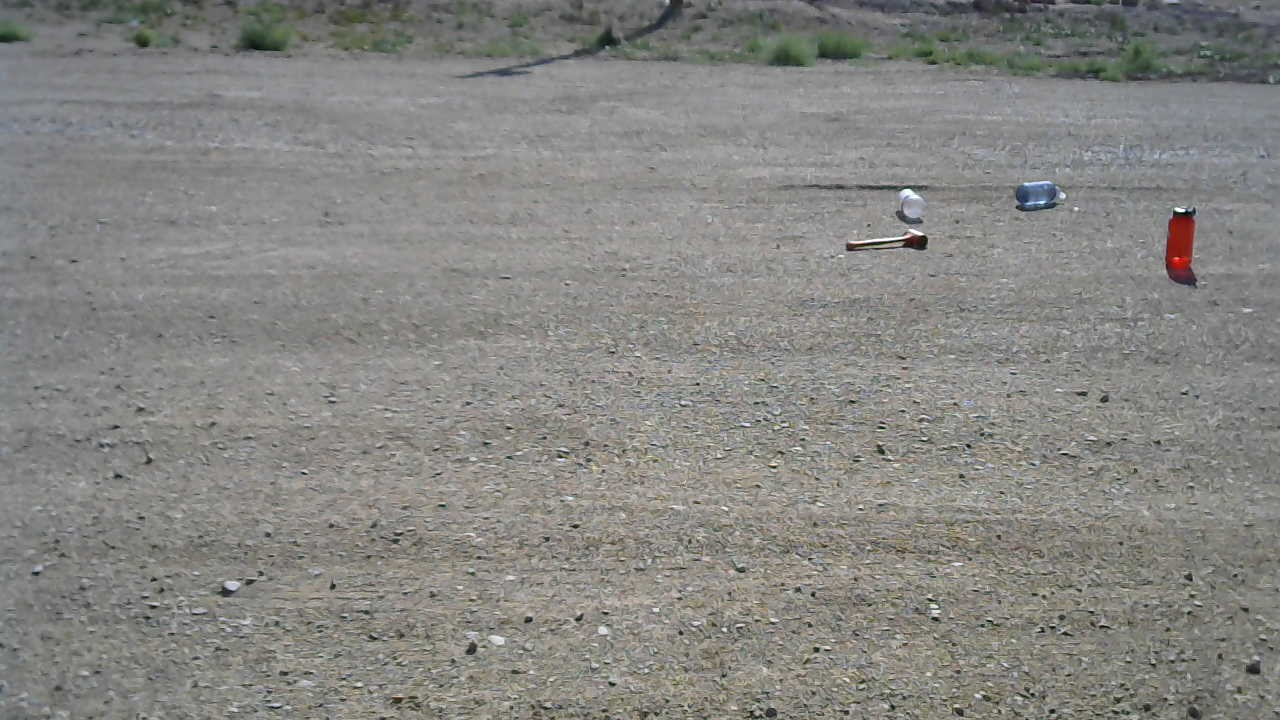bottle: (1164, 204, 1196, 274), (1009, 180, 1063, 207), (891, 187, 927, 220)
hammer: (842, 229, 927, 250)
